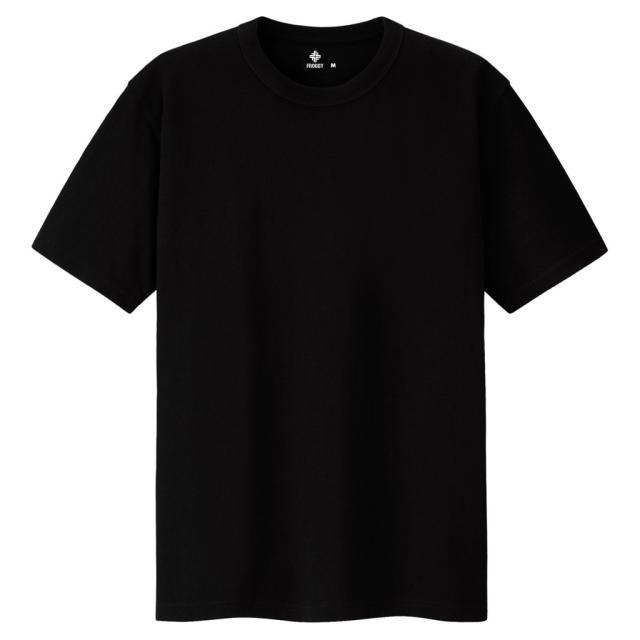Shirt: (27, 12, 613, 624)
